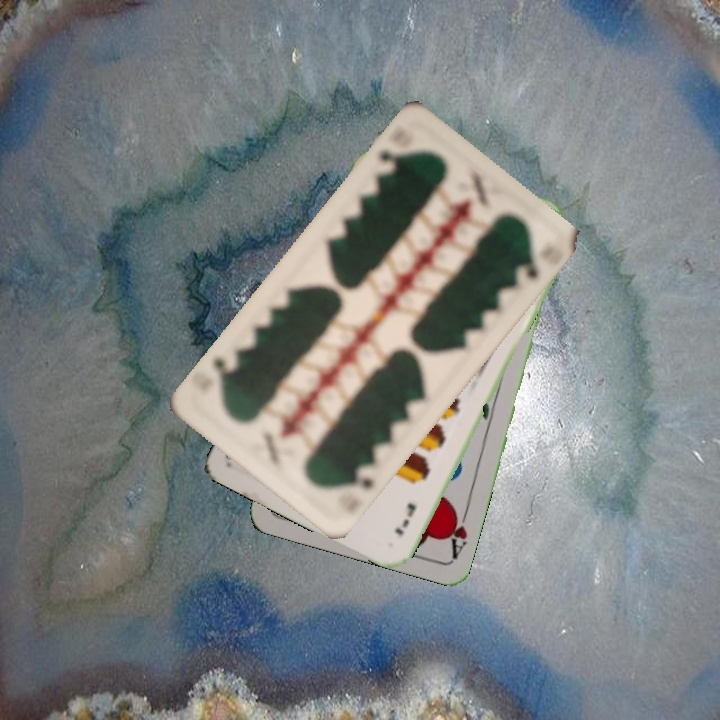E7: (391, 499, 419, 538)
G10: (374, 145, 408, 179), (343, 461, 376, 491)
HA: (442, 502, 472, 561)
